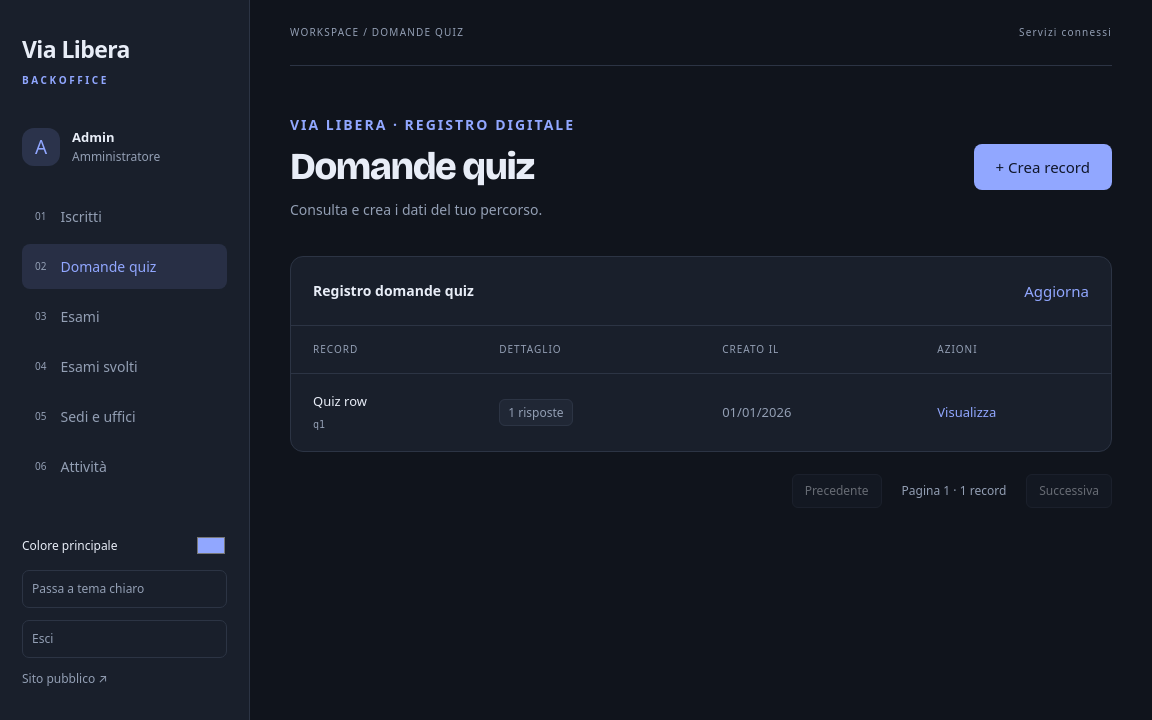
React login and backoffice › does not render stale quiz rows with the exams badge during section navigation
Expected: the text "Quiz row" is shown, [313,392,367,410]
Step 1. Click the button named "03Esami" → [124, 317], box [22,294,227,339]
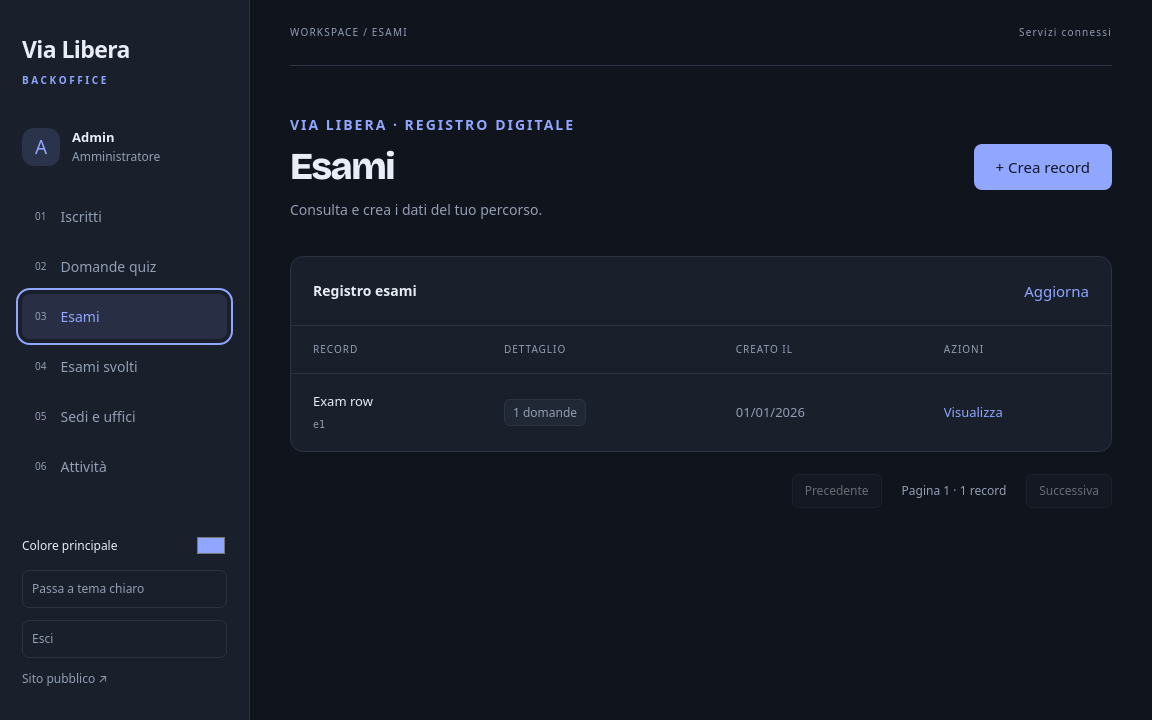
Expected: the text "Exam row" is shown, [313,392,373,410]
Expected: the text "Quiz row" is gone
